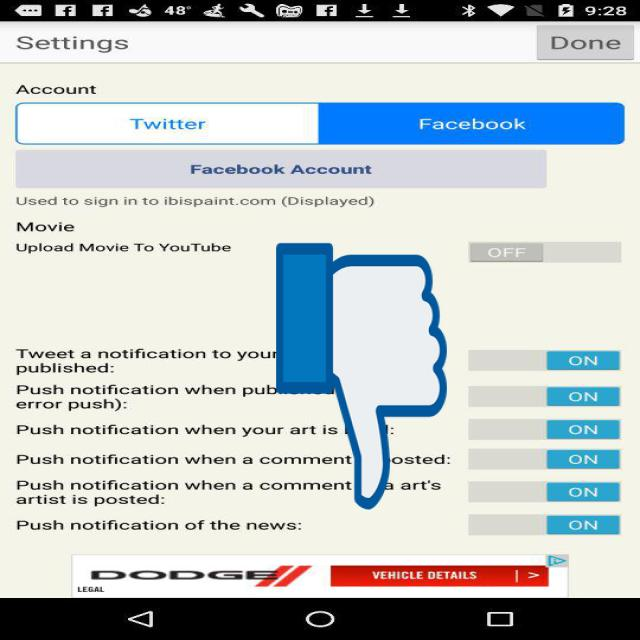obstruction: (276, 238, 447, 516)
